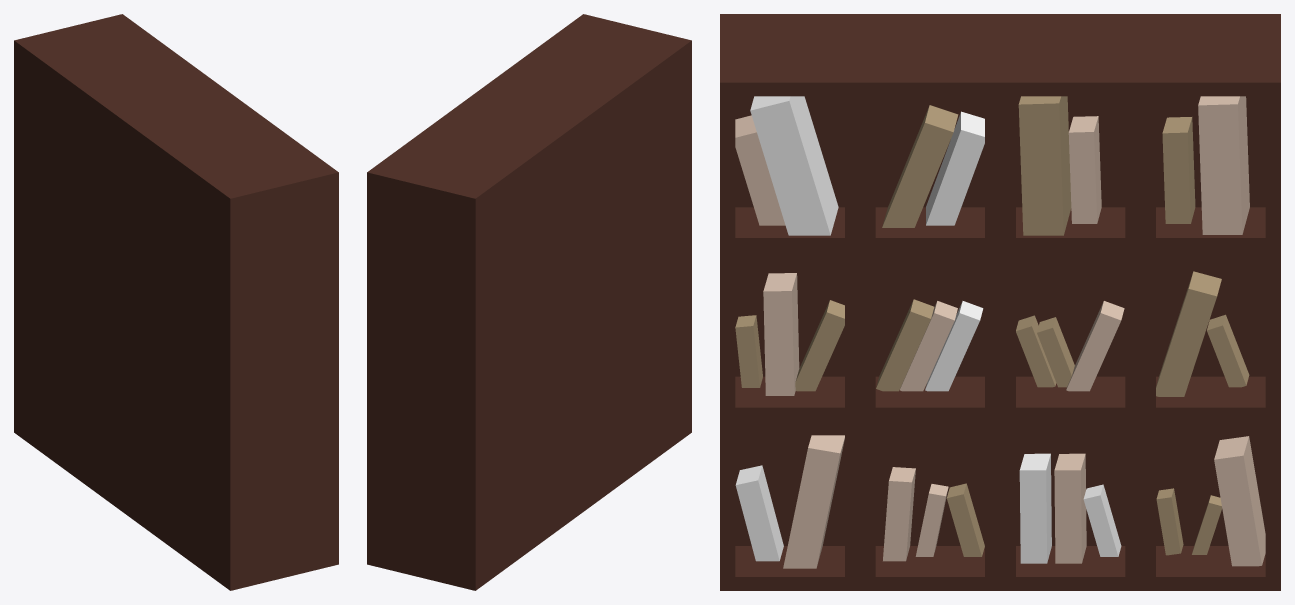
Rendered from bookshelf.fbx.
3 views of the same model, side by side, from view 1: azimuth 30°, elevation 25°; view 2: azimuth 150°, elevation 25°; view 3: azimuth 270°, elevation 25° (orthographic). The views are drawn at different scales.
Parts seen in each view (by area): view 1: bookshelf; view 2: bookshelf; view 3: bookshelf.
Boxes of the visible parts, <box> form: bookshelf: <box>14,14,338,590</box>; bookshelf: <box>367,14,691,590</box>; bookshelf: <box>720,14,1280,590</box>.
Bounding box in the file's own units: 1.36 × 4.71 × 4.71.
